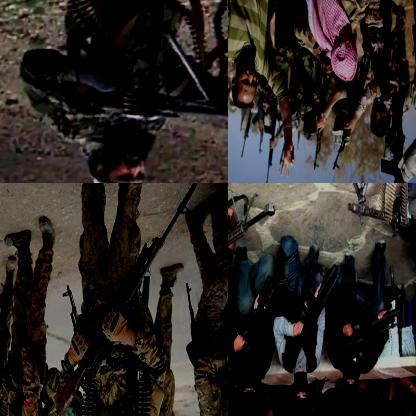rifle: (49, 183, 201, 415), (77, 76, 227, 138), (284, 257, 341, 367), (233, 274, 278, 389), (331, 61, 371, 168), (228, 183, 279, 261), (334, 304, 404, 354), (378, 91, 409, 182), (304, 69, 330, 170), (194, 68, 227, 119), (260, 100, 280, 182)
